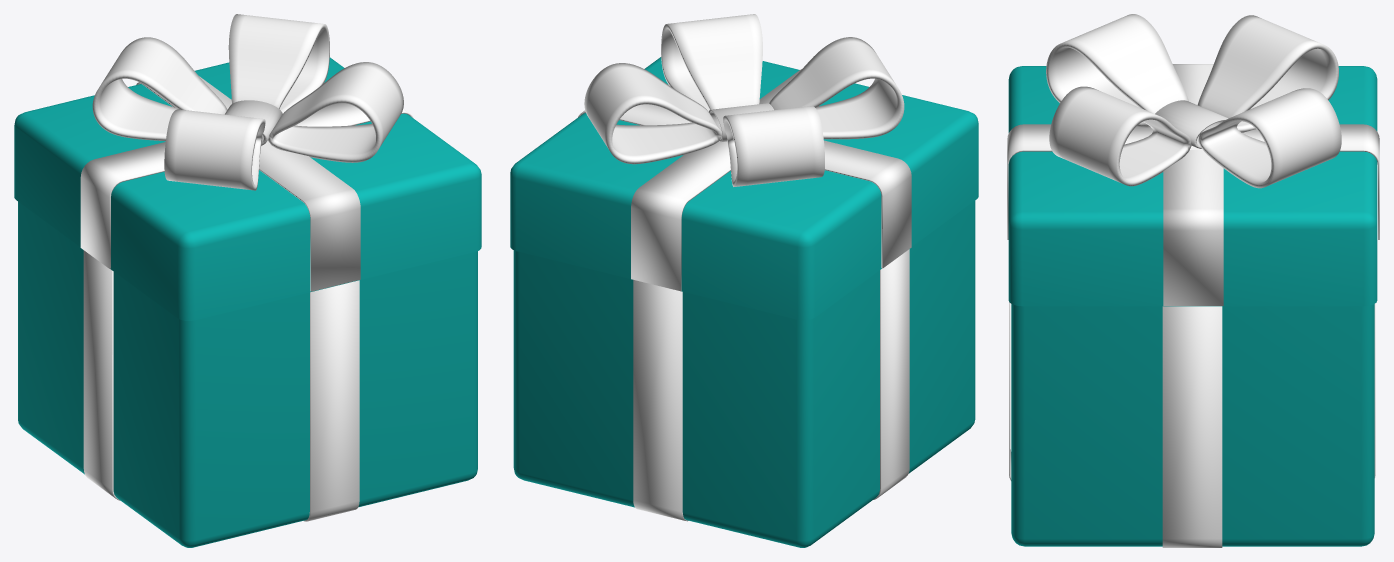
File: gift-box.glb
3 renders of one model, left to right at view 1: azimuth 30°, elevation 25°; view 2: azimuth 150°, elevation 25°; view 3: azimuth 270°, elevation 25°, orthographic. The views are drawn at different scales.
Visible parts, largest first — view 1: Cube, Cube.001, 平面.006, 平面.005, 平面.003, 平面.002, 平面.004, 平面.001, 円; view 2: Cube, Cube.001, 平面.005, 平面.006, 平面.003, 平面.002, 平面.004, 平面.001, 円; view 3: Cube, Cube.001, 平面.006, 平面.005, 平面.004, 平面.001, 平面.002, 円, 平面.003.
Part boxes in pixels (x1,y1,x2,y2): Cube: (18,202,477,547); Cube.001: (14,57,481,320); 平面.006: (92,37,403,162); 平面.005: (164,14,329,190); 平面.003: (303,280,359,521); 平面.002: (136,76,360,291); 平面.004: (83,250,119,500); 平面.001: (80,103,413,268); 円: (225,100,282,145); Cube: (513,200,975,547); Cube.001: (510,57,978,320); 平面.005: (584,37,904,164); 平面.006: (661,14,824,186); 平面.003: (633,280,688,521); 平面.002: (631,69,855,291); 平面.004: (873,249,909,499); 平面.001: (578,104,911,268); 円: (709,103,773,142); Cube: (1011,304,1374,546); Cube.001: (1008,66,1377,306); 平面.006: (1049,15,1338,186); 平面.005: (1046,14,1341,188); 平面.004: (1162,306,1222,547); 平面.001: (1163,64,1223,305); 平面.002: (1007,124,1379,239); 円: (1155,100,1228,148); 平面.003: (1009,302,1375,480).
Bounding box in the file's own units: 2.05 × 2.49 × 2.05.
